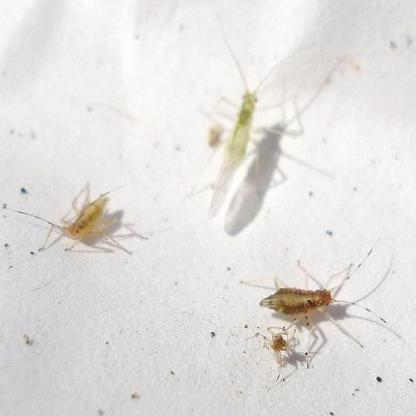aphid: (204, 27, 316, 227), (255, 254, 392, 347), (30, 175, 144, 271)
